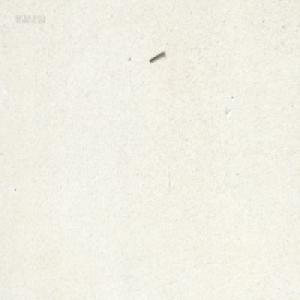Bolt: (148, 49, 164, 61)
